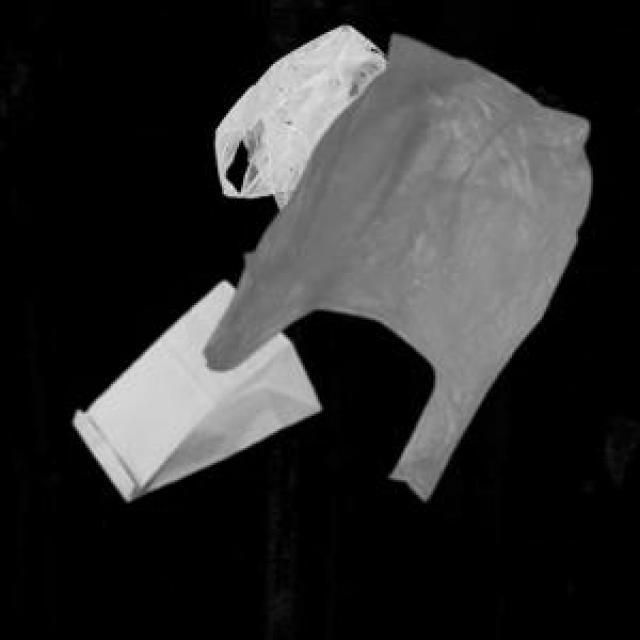paper: (70, 277, 316, 497)
